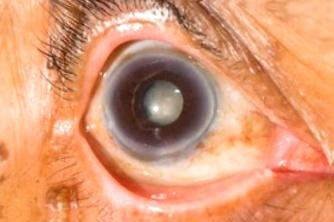eye: (101, 53, 217, 162)
